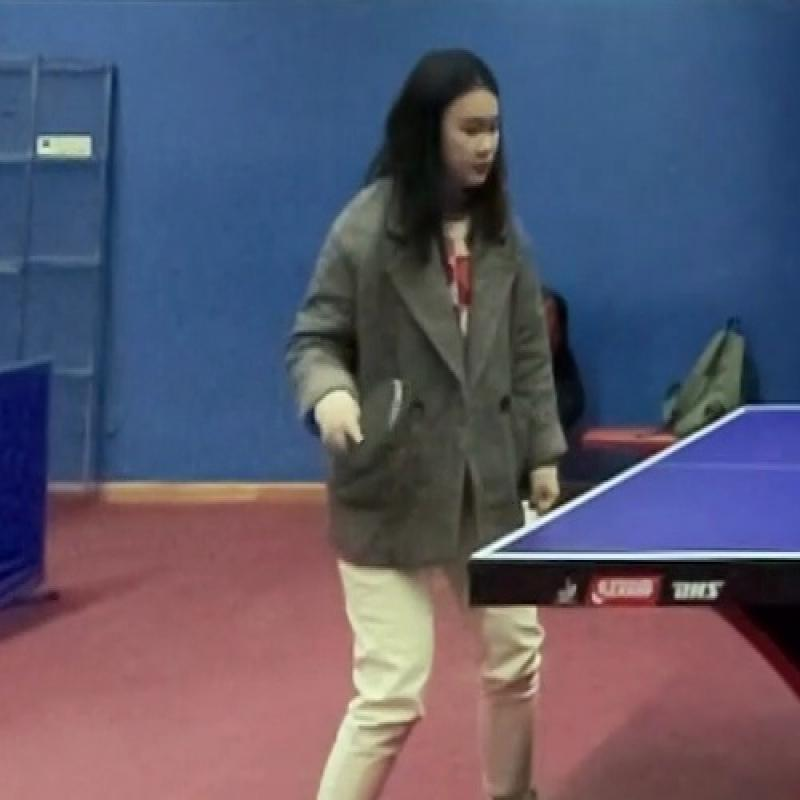bats: (336, 367, 414, 475)
